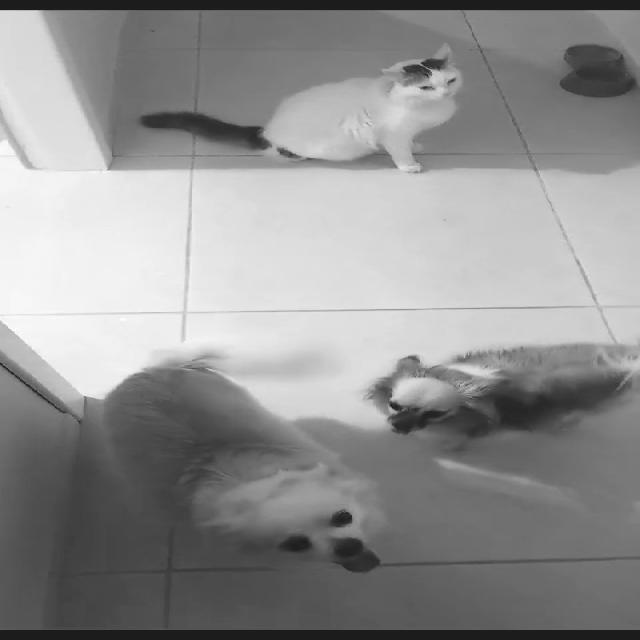Pedrita: (317, 316, 639, 444)
Theo: (77, 330, 393, 568)
